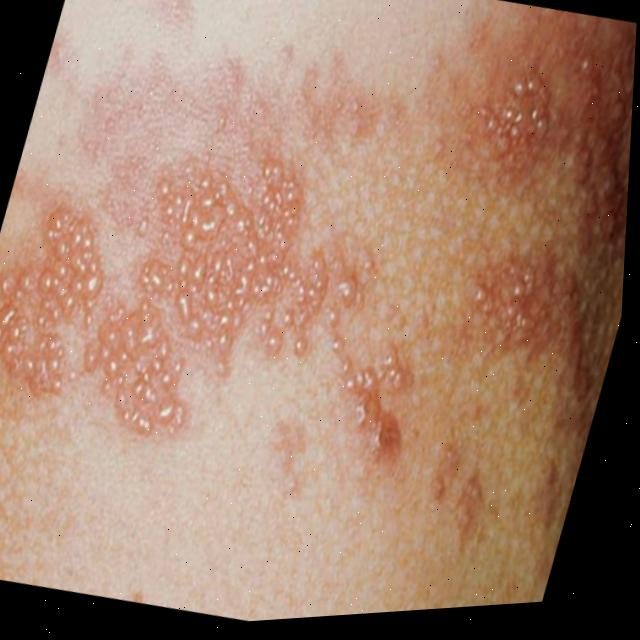Shingles: (0, 92, 322, 468), (443, 229, 622, 377), (481, 53, 571, 167)
